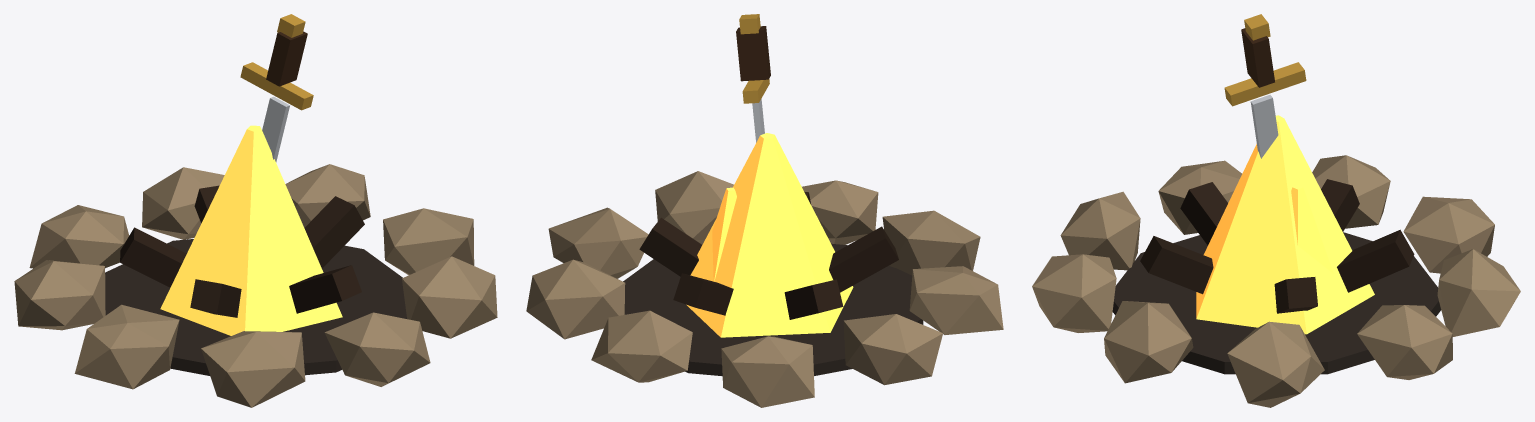
Rendered from bonfire.glb.
The picture shows the model from 3 angles, left to right: view 1: azimuth 30°, elevation 25°; view 2: azimuth 150°, elevation 25°; view 3: azimuth 270°, elevation 25°; orthographic projection. The views are drawn at different scales.
Parts seen in each view (by area): view 1: Bonfire, Flame; view 2: Bonfire, Flame; view 3: Bonfire, Flame.
Boxes of the visible parts, x1,y1,x2,y2 form: Bonfire: [14, 14, 497, 407]; Flame: [160, 125, 342, 335]; Bonfire: [526, 14, 1003, 407]; Flame: [686, 133, 853, 337]; Bonfire: [1032, 14, 1520, 407]; Flame: [1196, 115, 1374, 334].
Size of the model in its own units: 1.9 by 1.3 by 1.81.
